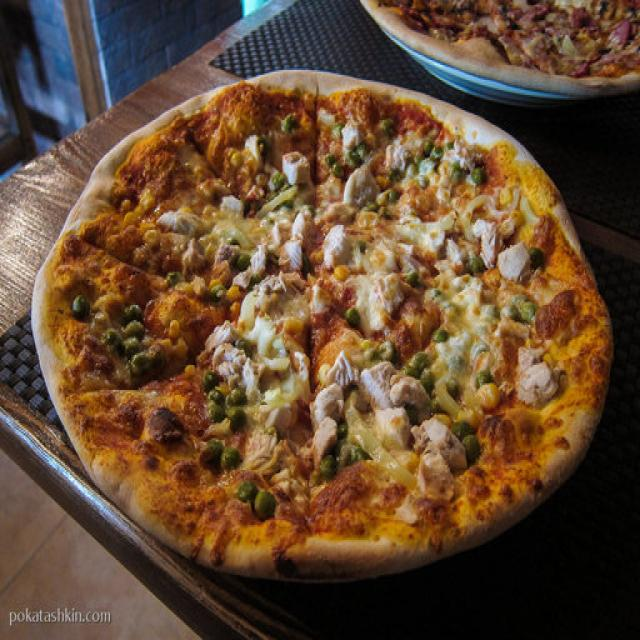Chicken: (416, 419, 464, 488), (317, 356, 347, 450), (258, 405, 292, 486), (482, 230, 526, 277), (520, 351, 556, 401), (209, 326, 244, 371), (360, 362, 394, 402), (274, 224, 303, 270), (398, 378, 429, 415), (347, 168, 374, 204), (373, 277, 397, 310), (325, 230, 348, 264), (158, 209, 197, 227), (284, 155, 308, 182), (260, 272, 283, 292), (475, 218, 496, 238), (344, 124, 360, 148), (388, 148, 405, 170), (245, 357, 256, 388), (254, 245, 264, 274), (222, 196, 239, 213), (218, 243, 236, 259), (248, 137, 262, 157), (294, 215, 308, 232)
Pizza: (29, 72, 614, 587), (362, 0, 640, 96)
